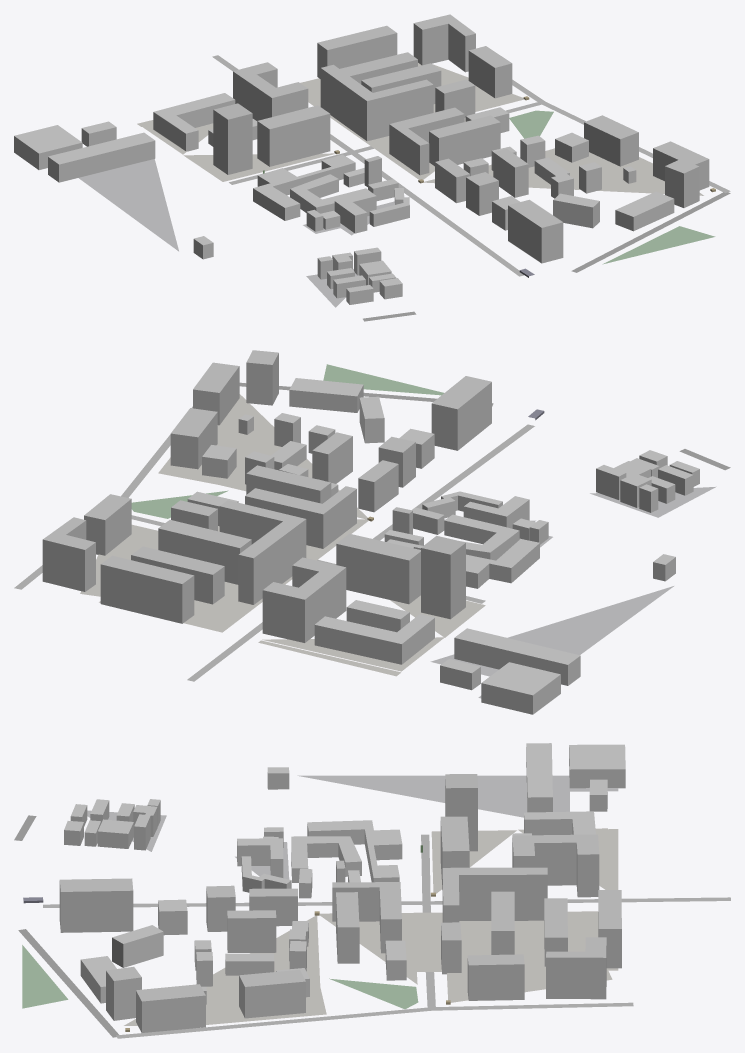
The picture shows the model from 3 angles, top to bottom: view 1: azimuth 30°, elevation 25°; view 2: azimuth 150°, elevation 25°; view 3: azimuth 270°, elevation 25°; orthographic projection. The views are drawn at different scales.
Bounding box in the file's own units: 551 × 61.73 × 602.
